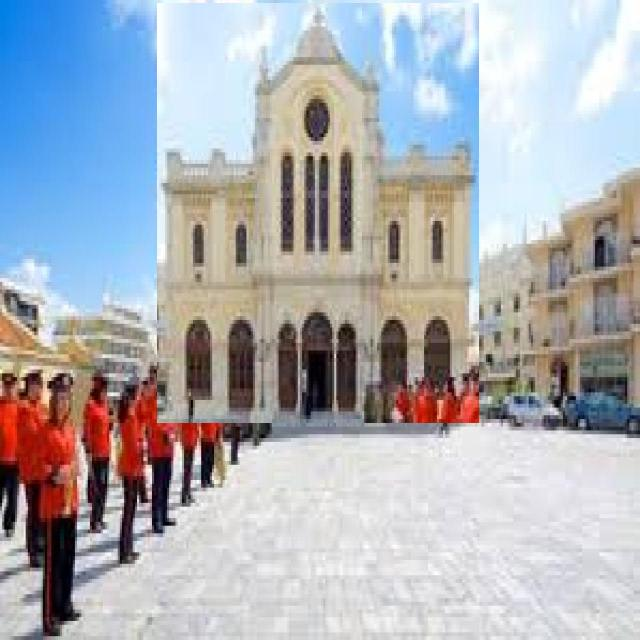Agios Minas: (158, 4, 480, 424)
